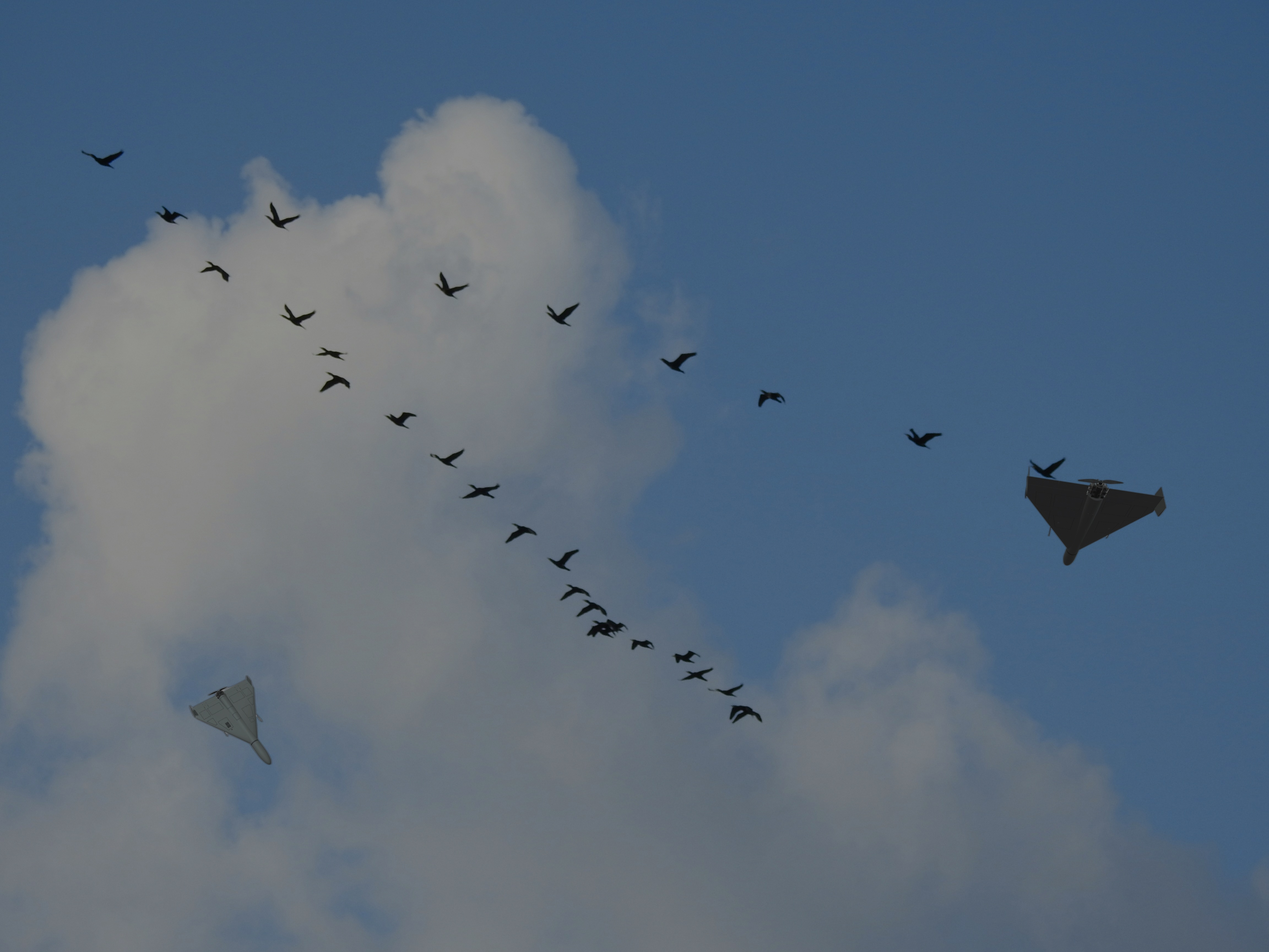shahed: (1021, 453, 1168, 568), (186, 672, 275, 767)
